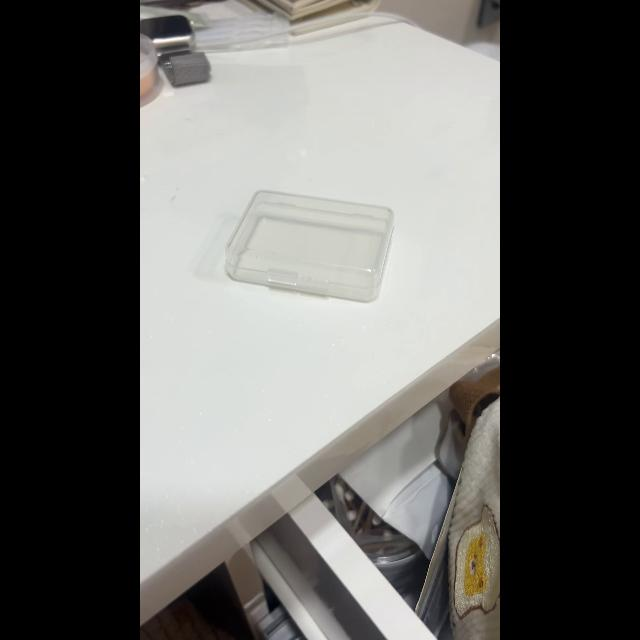clean: (223, 188, 395, 302)
